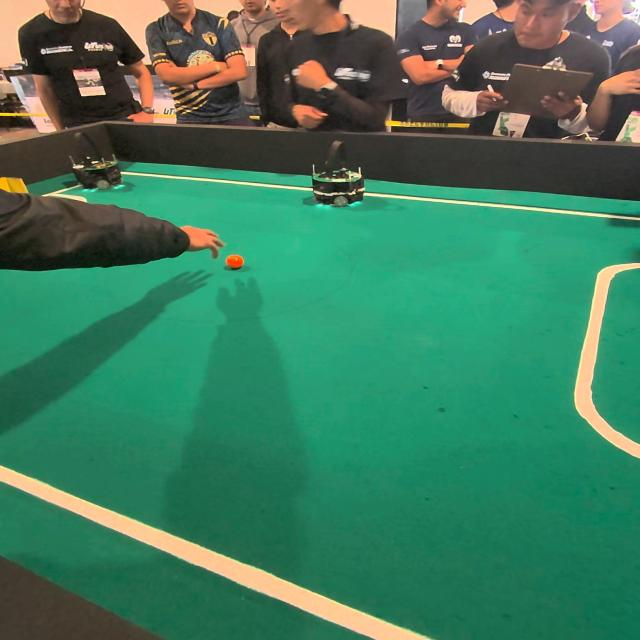Robot: (59, 121, 129, 196), (313, 138, 373, 219)
pelota: (226, 254, 246, 269)
